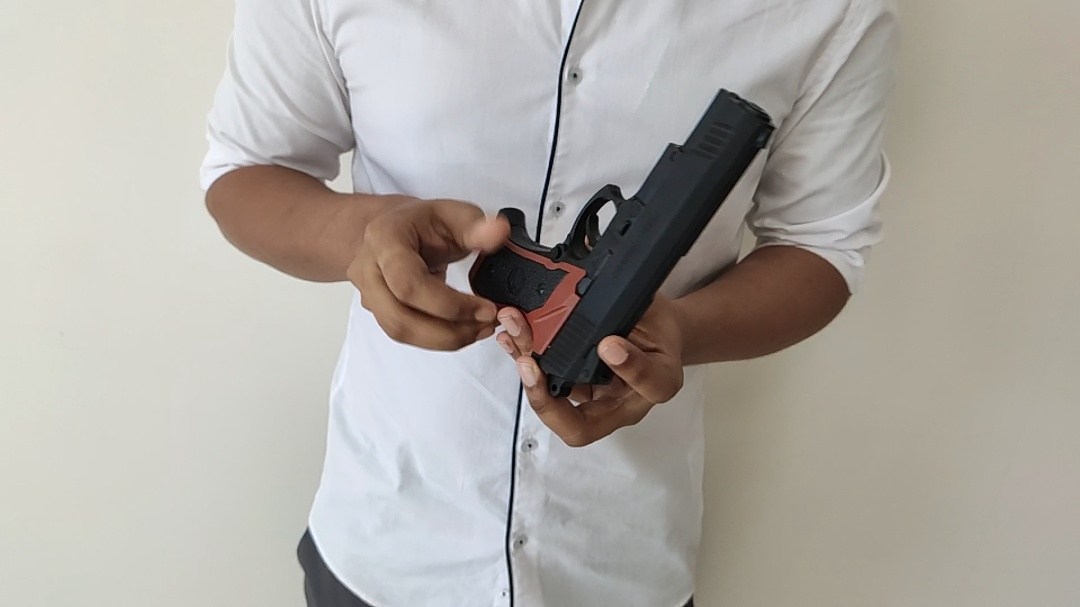gun: (467, 86, 778, 400)
